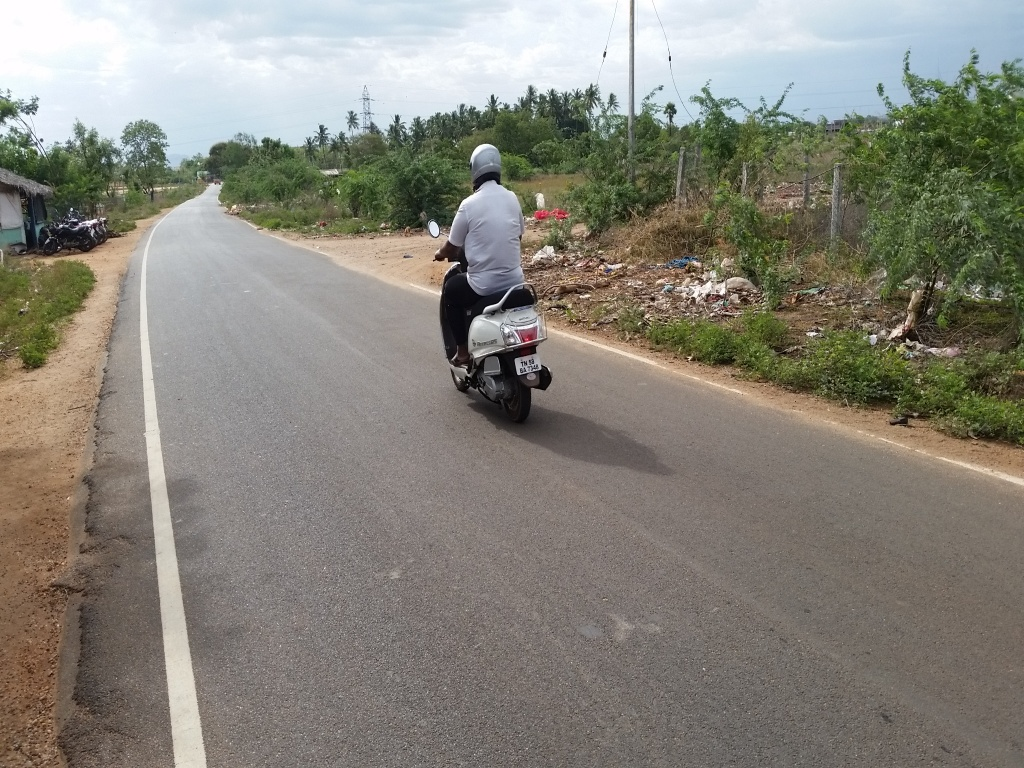biker: (404, 103, 584, 438)
helmet: (464, 132, 514, 205)
